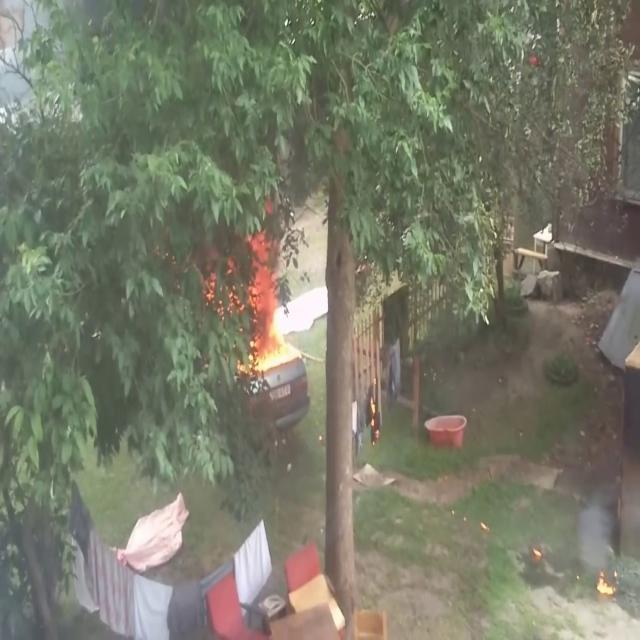Fire: (234, 249, 302, 377), (595, 564, 619, 600)
